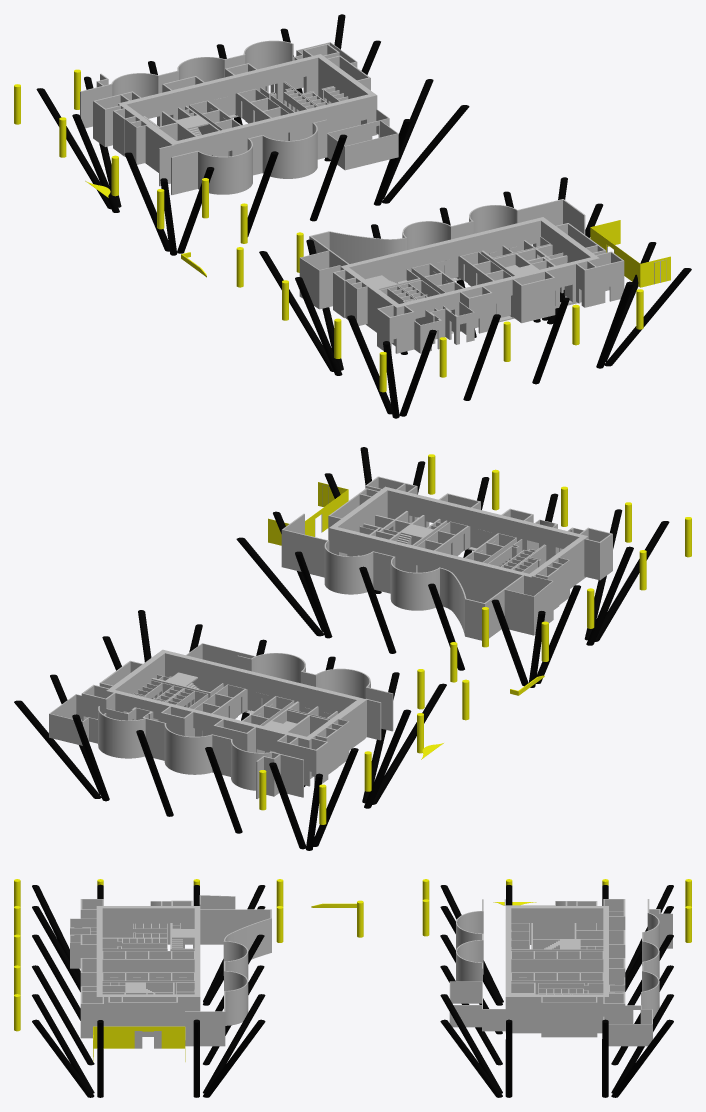
The model's file is sm_hana_building_2f_in.glb.
3 renders of one model, top to bottom at view 1: azimuth 30°, elevation 25°; view 2: azimuth 150°, elevation 25°; view 3: azimuth 270°, elevation 25°, orthographic. The views are drawn at different scales.
Visible parts, largest first — view 1: sm_hana_building_2f_in; view 2: sm_hana_building_2f_in; view 3: sm_hana_building_2f_in.
Part boxes in pixels (x1=…): sm_hana_building_2f_in: x1=14, y1=14, x2=691, y2=418; sm_hana_building_2f_in: x1=14, y1=447, x2=691, y2=850; sm_hana_building_2f_in: x1=14, y1=879, x2=691, y2=1097.
Bounding box in the file's own units: 50.14 × 14.86 × 92.9.
Materials: 5 (4 with a texture image).
